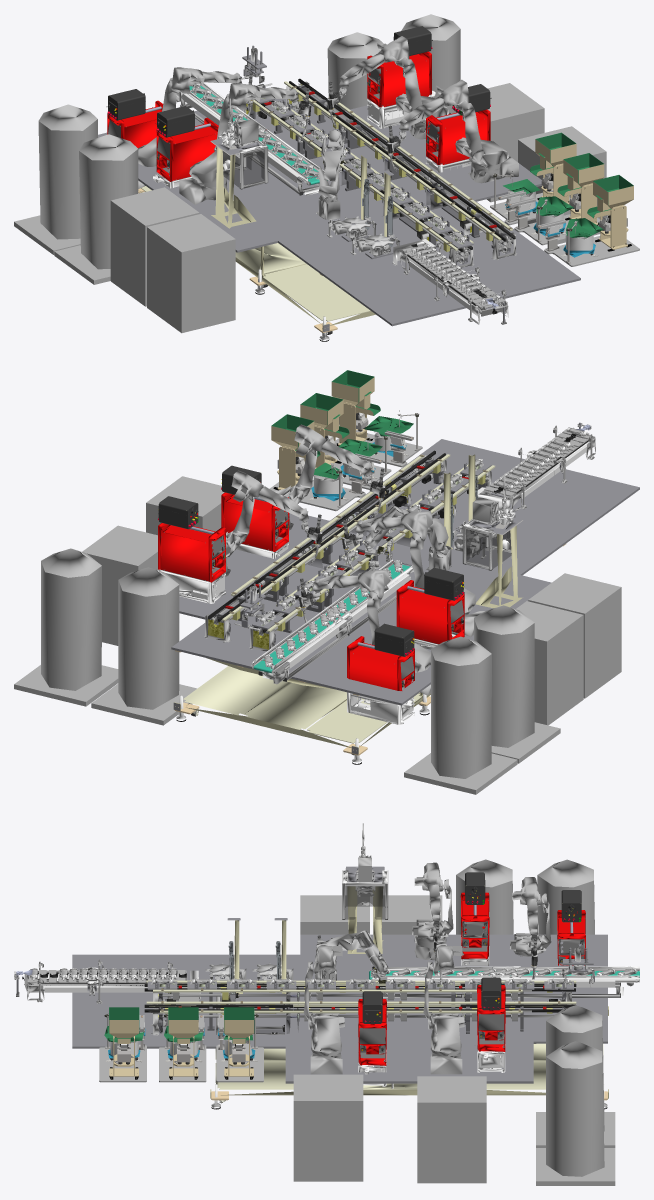
File: cell_weld.glb
The picture shows the model from 3 angles, top to bottom: view 1: azimuth 30°, elevation 25°; view 2: azimuth 150°, elevation 25°; view 3: azimuth 270°, elevation 25°; orthographic projection. The views are drawn at different scales.
Bounding box in the file's own units: 5.08 × 2.18 × 6.31.
